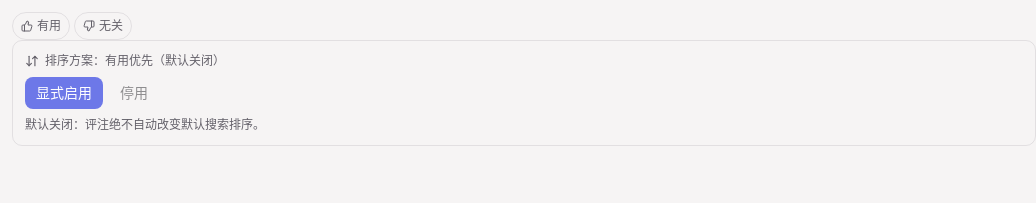
Scenario: NEW-370 搜索结果评注 › 有用/无关是显式标记；默认方案关闭；启用后展示重排预览
What coordinates should you click on to do the following:
click the button with test id "n370-useful"
I would click on:
 (41, 26)
Its box is 12,12 -> 70,40.
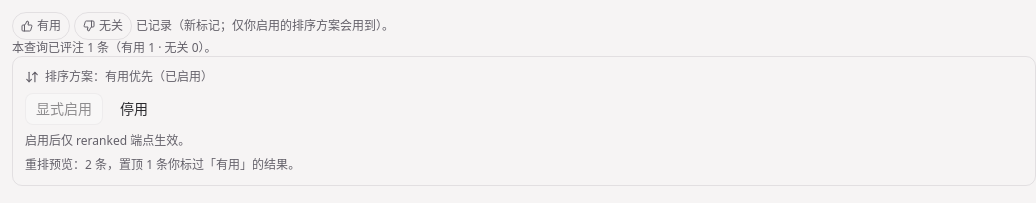
expect the message "已记录（新标记；仅你启用的排序方案会用到）。" is shown: met, box 136,18 -> 394,34
expect the text "本查询已评注 1 条（有用 1 · 无关 0）。" is shown: met, box 12,39 -> 217,56
expect the text "重排预览：2 条，置顶 1 条你标过「有用」的结果。" is shown: met, box 25,156 -> 300,173
